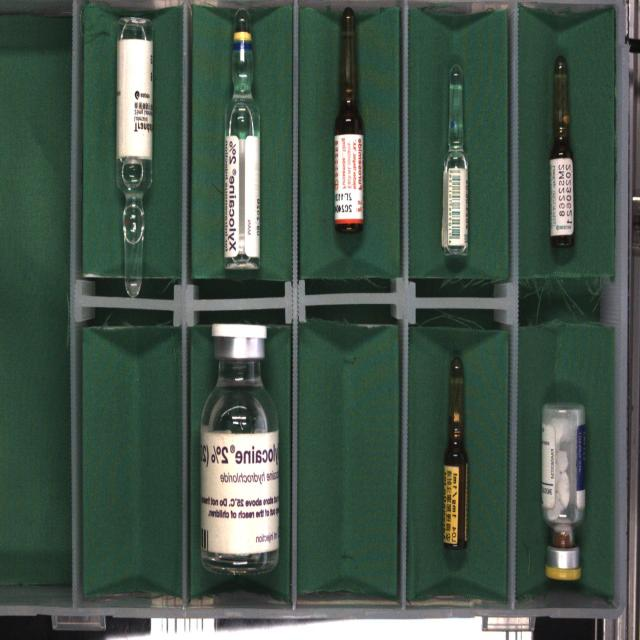Vials: (201, 324, 280, 574), (541, 404, 586, 580)
